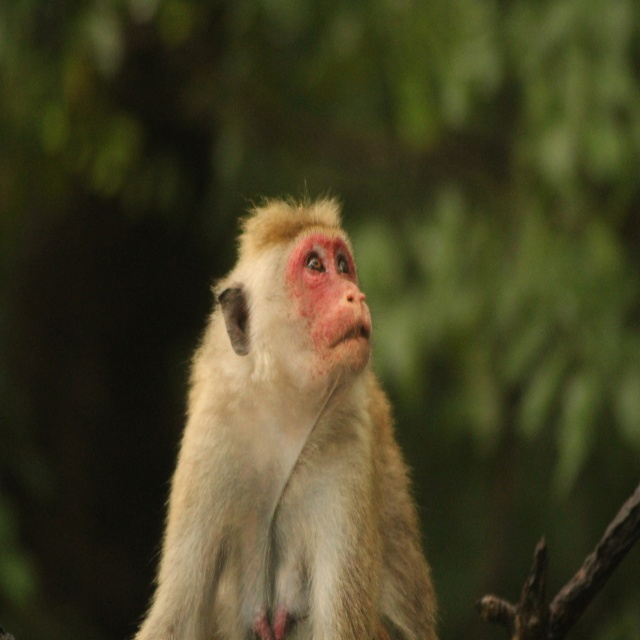Monkey: (134, 193, 440, 639)
